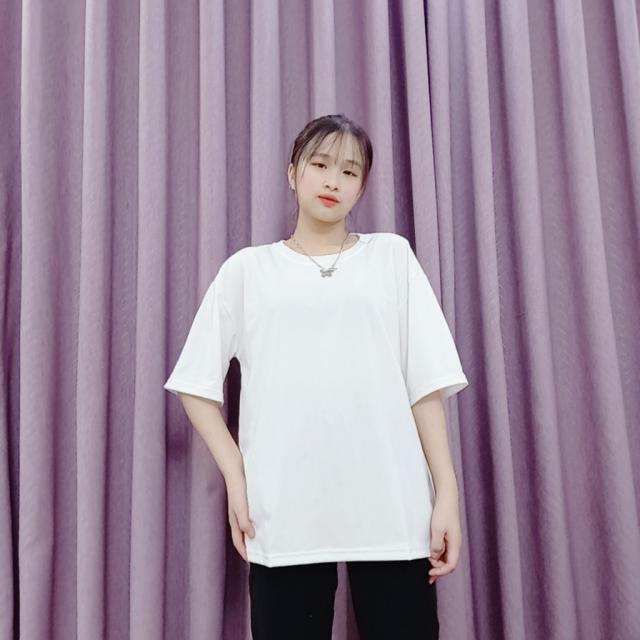Shirt: (170, 231, 472, 564)
